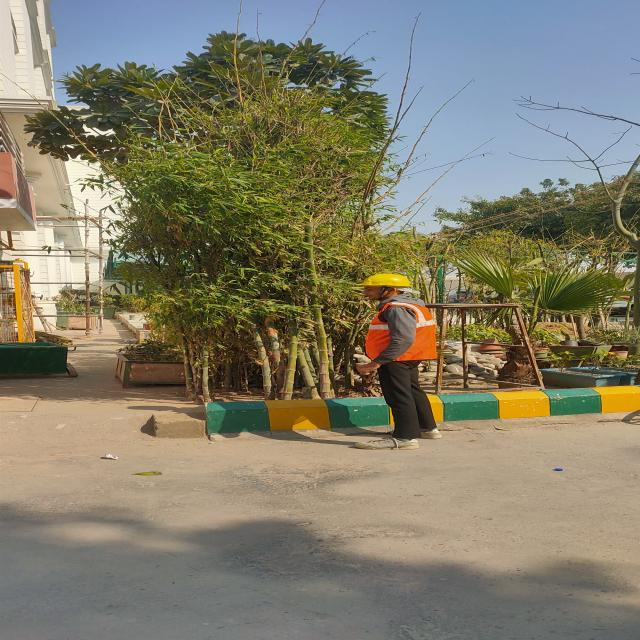safe: (359, 274, 438, 450)
